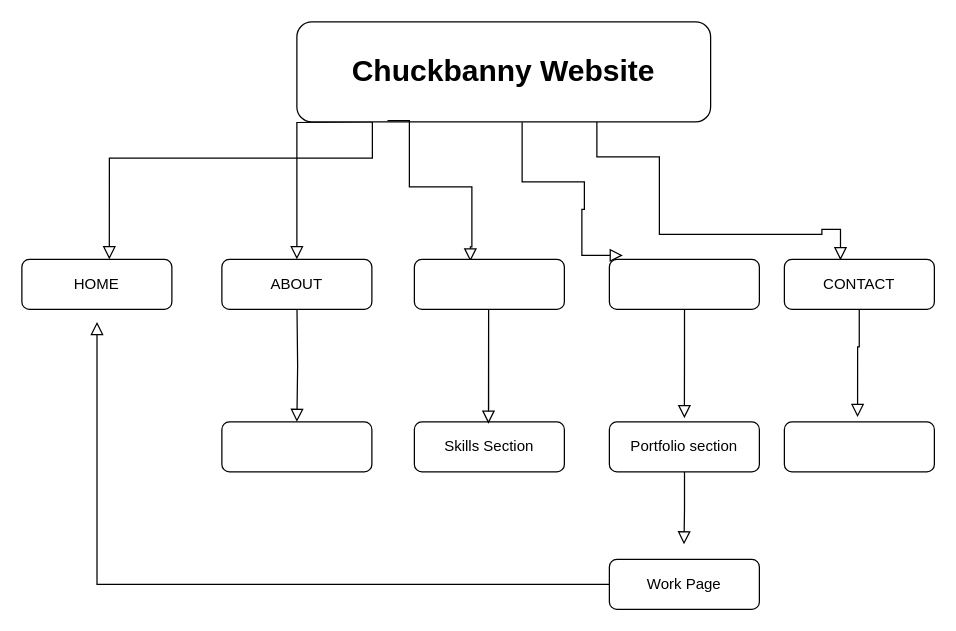
Image size: 956x631. Some labels were removed from this diagram. Here are the shapes that lost their labels. From the top down, the centre of each, then its label:
At (488,283): "SKILLS".
At (683,283): "PORTFOLIO".
At (296,446): "About section".
At (858,446): "Contact form".
